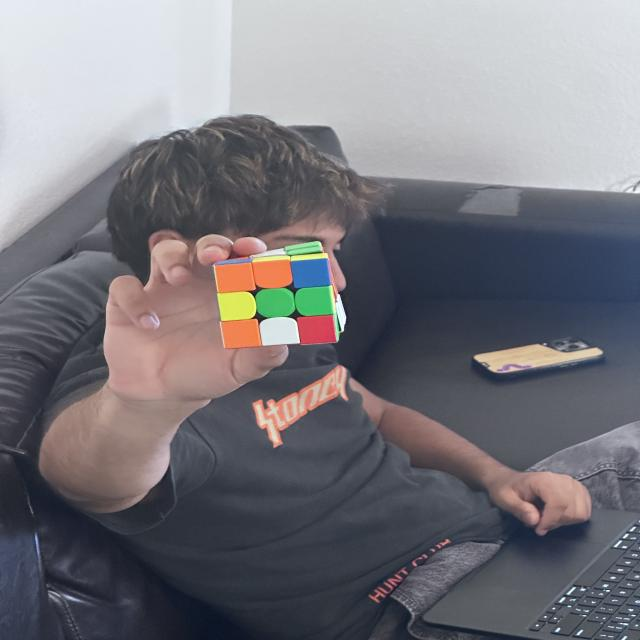sticker: (212, 258, 255, 294), (290, 254, 332, 290), (251, 255, 293, 290), (294, 284, 336, 318), (254, 287, 296, 320), (257, 316, 302, 346), (296, 314, 338, 346), (220, 318, 263, 349), (217, 291, 257, 322)
